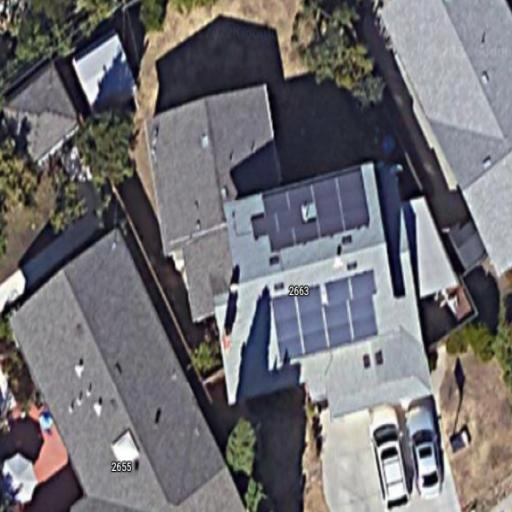Solar-Slope-Roof: (146, 87, 432, 418)
